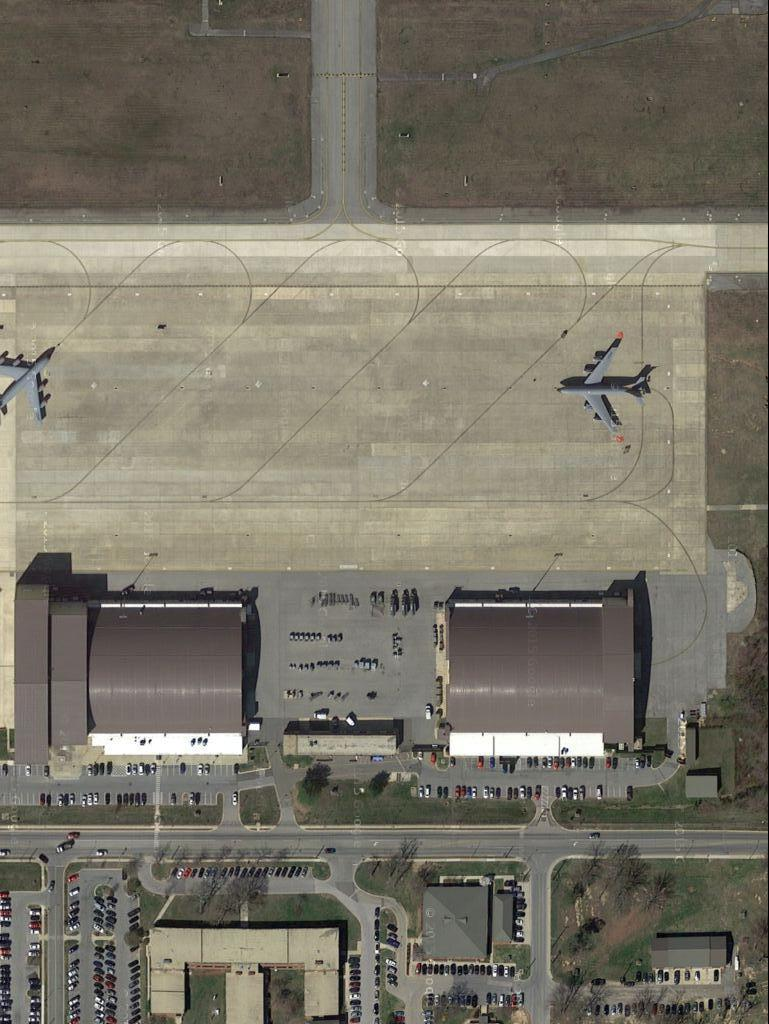KC-135: (556, 334, 653, 438), (1, 344, 57, 429)
